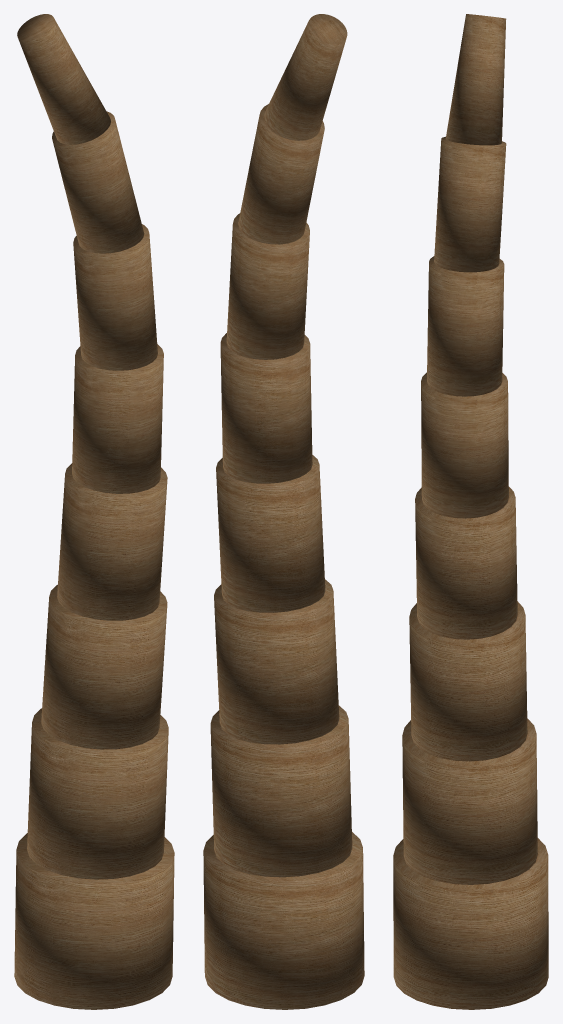
Rendered from cylinder.044_lev3.glb.
3 views of the same model, side by side, from view 1: azimuth 30°, elevation 25°; view 2: azimuth 150°, elevation 25°; view 3: azimuth 270°, elevation 25° (orthographic). The views are drawn at different scales.
Parts seen in each view (by area): view 1: cylinder.044_lev3; view 2: cylinder.044_lev3; view 3: cylinder.044_lev3.
Boxes of the visible parts, <box> form: cylinder.044_lev3: <box>14,14,174,1009</box>; cylinder.044_lev3: <box>203,14,364,1009</box>; cylinder.044_lev3: <box>393,14,548,1009</box>.
Bounding box in the file's own units: 0.45 × 2.99 × 0.446.
1 material, 1 textured.
